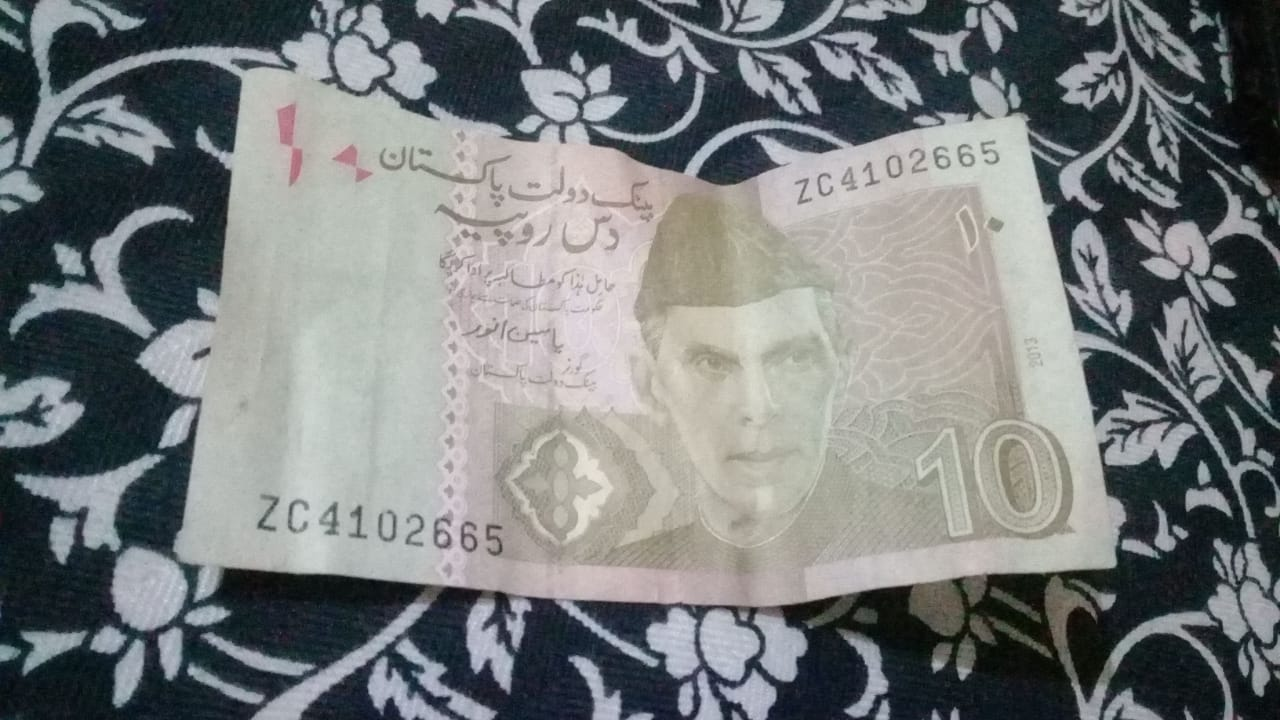10 rupee: (168, 56, 1121, 622)
